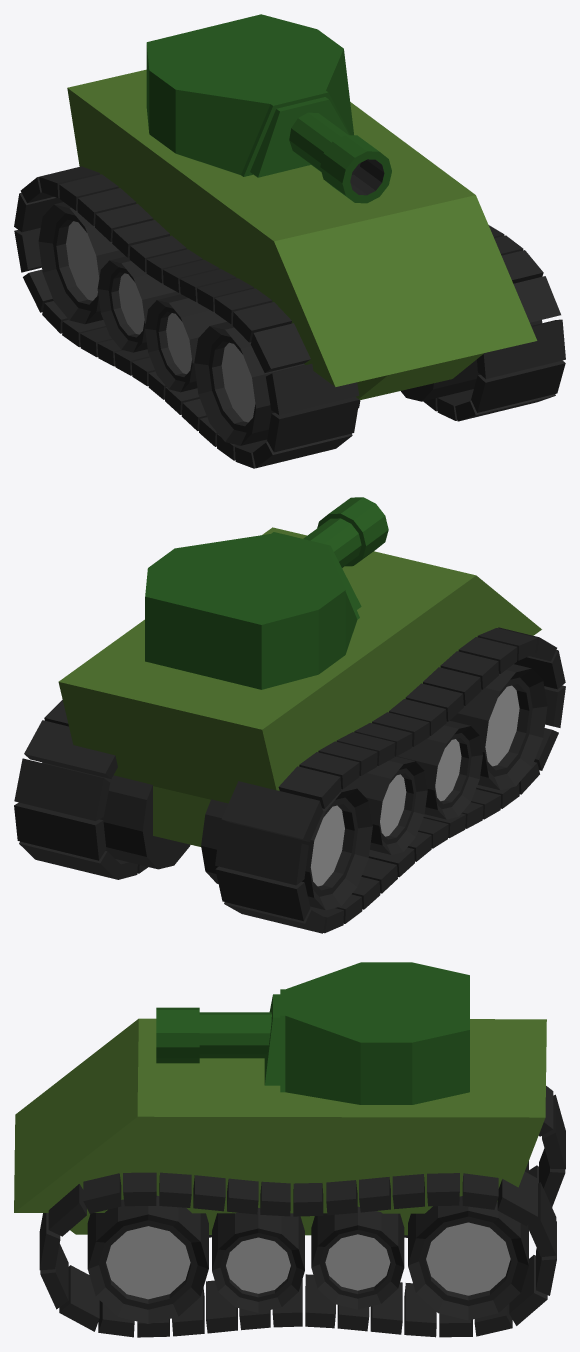
Rendered from tank3.fbx.
3 renders of one model, top to bottom at view 1: azimuth 30°, elevation 25°; view 2: azimuth 150°, elevation 25°; view 3: azimuth 270°, elevation 25°, orthographic. The views are drawn at different scales.
Parts seen in each view (by area): view 1: Cube.003, Cube.001, Cube.002, Cube, Cylinder.008, Cylinder.007, Cylinder, Cylinder.006, Cylinder.005, Cylinder.001; view 2: Cube.003, Cube.001, Cube.002, Cube, Cylinder.007, Cylinder.008, Cylinder.006, Cylinder.005, Cylinder.002, Cylinder; view 3: Cube.003, Cube, Cube.002, Cylinder.001, Cylinder.002, Cylinder.003, Cylinder.004, Cylinder, Cube.001.
Part boxes in pixels (x1=…): Cube.003: x1=67, y1=69, x2=537, y2=399; Cube.001: x1=14, y1=166, x2=359, y2=468; Cube.002: x1=146, y1=14, x2=353, y2=177; Cube: x1=423, y1=225, x2=565, y2=421; Cylinder.008: x1=194, y1=321, x2=360, y2=445; Cylinder.007: x1=38, y1=202, x2=125, y2=324; Cylinder: x1=289, y1=112, x2=391, y2=203; Cylinder.006: x1=145, y1=294, x2=226, y2=392; Cylinder.005: x1=97, y1=256, x2=180, y2=352; Cylinder.001: x1=401, y1=320, x2=542, y2=401; Cube.003: x1=58, y1=527, x2=541, y2=846; Cube.001: x1=215, y1=627, x2=565, y2=933; Cube.002: x1=145, y1=532, x2=361, y2=689; Cube: x1=14, y1=700, x2=148, y2=879; Cylinder.007: x1=201, y1=786, x2=372, y2=910; Cylinder.008: x1=450, y1=664, x2=547, y2=790; Cylinder.006: x1=397, y1=720, x2=482, y2=819; Cylinder.005: x1=348, y1=756, x2=427, y2=854; Cylinder.002: x1=42, y1=762, x2=190, y2=869; Cylinder: x1=303, y1=497, x2=388, y2=567; Cube.003: x1=14, y1=1018, x2=546, y2=1235; Cube: x1=39, y1=1171, x2=556, y2=1337; Cube.002: x1=264, y1=962, x2=469, y2=1104; Cylinder.001: x1=87, y1=1195, x2=208, y2=1323; Cylinder.002: x1=408, y1=1196, x2=528, y2=1320; Cylinder.003: x1=212, y1=1208, x2=304, y2=1312; Cylinder.004: x1=311, y1=1206, x2=404, y2=1309; Cylinder: x1=156, y1=1007, x2=271, y2=1063; Cube.001: x1=209, y1=1086, x2=565, y2=1237.
Bounding box in the file's own units: 7.2 × 6.53 × 12.21.
